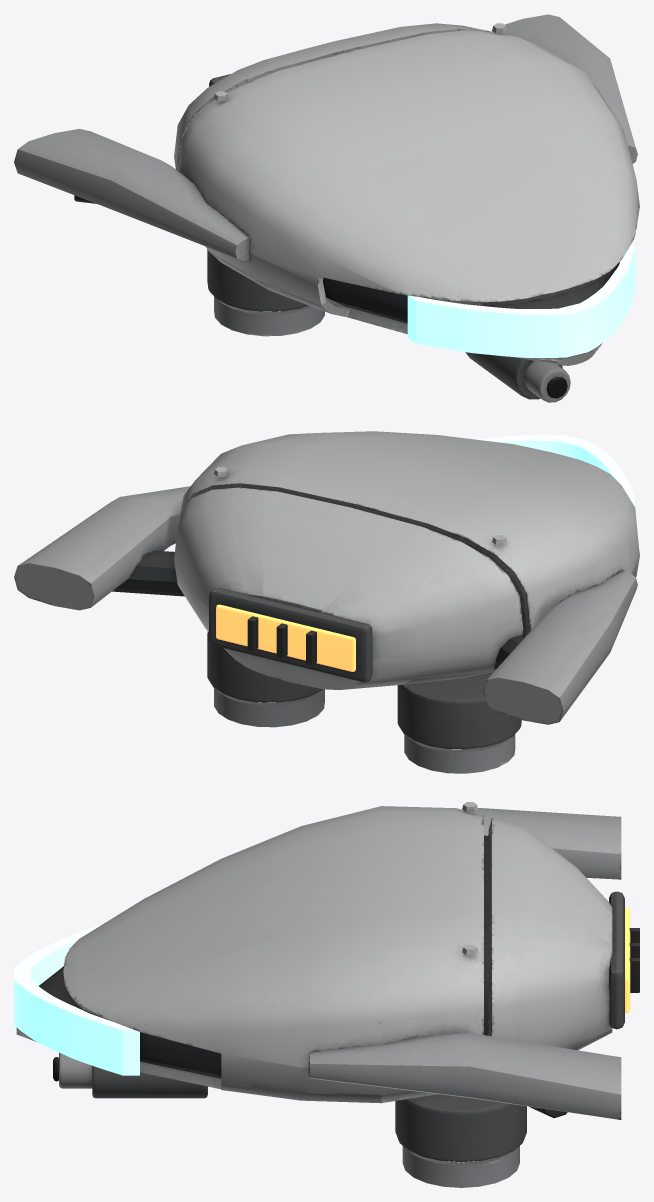
File: gnat.glb
The picture shows the model from 3 angles, top to bottom: view 1: azimuth 30°, elevation 25°; view 2: azimuth 150°, elevation 25°; view 3: azimuth 270°, elevation 25°; orthographic projection. The views are drawn at different scales.
Visible parts, largest first — view 1: body, sensor, thruster_0, gun; view 2: body, vent_0, thruster_0, thruster_1, sensor; view 3: body, thruster_1, sensor, gun, vent_0.
Part boxes in pixels (bbox=[...]): body: bbox=[14, 14, 639, 365]; sensor: bbox=[407, 244, 635, 357]; thruster_0: bbox=[207, 249, 324, 336]; gun: bbox=[465, 352, 570, 402]; body: bbox=[14, 431, 639, 724]; vent_0: bbox=[209, 587, 372, 681]; thruster_0: bbox=[397, 671, 521, 773]; thruster_1: bbox=[207, 631, 324, 727]; sensor: bbox=[475, 434, 635, 509]; body: bbox=[16, 802, 621, 1119]; thruster_1: bbox=[395, 1094, 526, 1187]; sensor: bbox=[14, 924, 139, 1075]; gun: bbox=[53, 1052, 207, 1098]; vent_0: bbox=[609, 891, 639, 1029].
Size of what is drawn, in the model's own units: 0.75 by 0.3139 by 0.704.
Materials: 4 (1 with a texture image).
